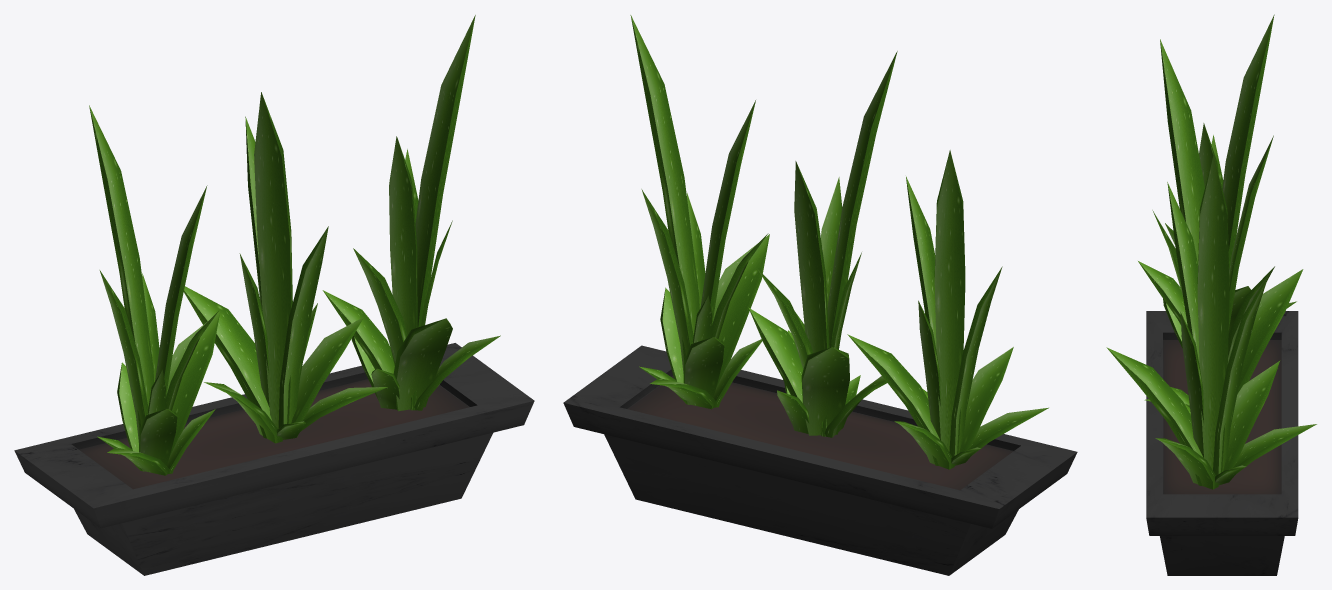
Rendered from FlowerPot9.FBX.
3 renders of one model, left to right at view 1: azimuth 30°, elevation 25°; view 2: azimuth 150°, elevation 25°; view 3: azimuth 270°, elevation 25°, orthographic. The views are drawn at different scales.
Visible parts, largest first — view 1: flowerpot007, plant007, plant006, plant008; view 2: flowerpot007, plant006, plant008, plant007; view 3: flowerpot007, plant006, plant007, plant008.
Part boxes in pixels (x1,y1,x2,y2): flowerpot007: [14, 343, 534, 575]; plant007: [183, 92, 387, 443]; plant006: [322, 15, 500, 411]; plant008: [89, 105, 220, 475]; flowerpot007: [563, 345, 1077, 575]; plant006: [630, 15, 769, 409]; plant008: [847, 150, 1048, 469]; plant007: [748, 51, 897, 437]; flowerpot007: [1146, 311, 1298, 575]; plant006: [1106, 155, 1316, 489]; plant007: [1144, 39, 1303, 407]; plant008: [1138, 14, 1296, 348].
Size of the model in its own units: 37.45 by 37.33 by 16.19.
2 materials, 2 textured.
